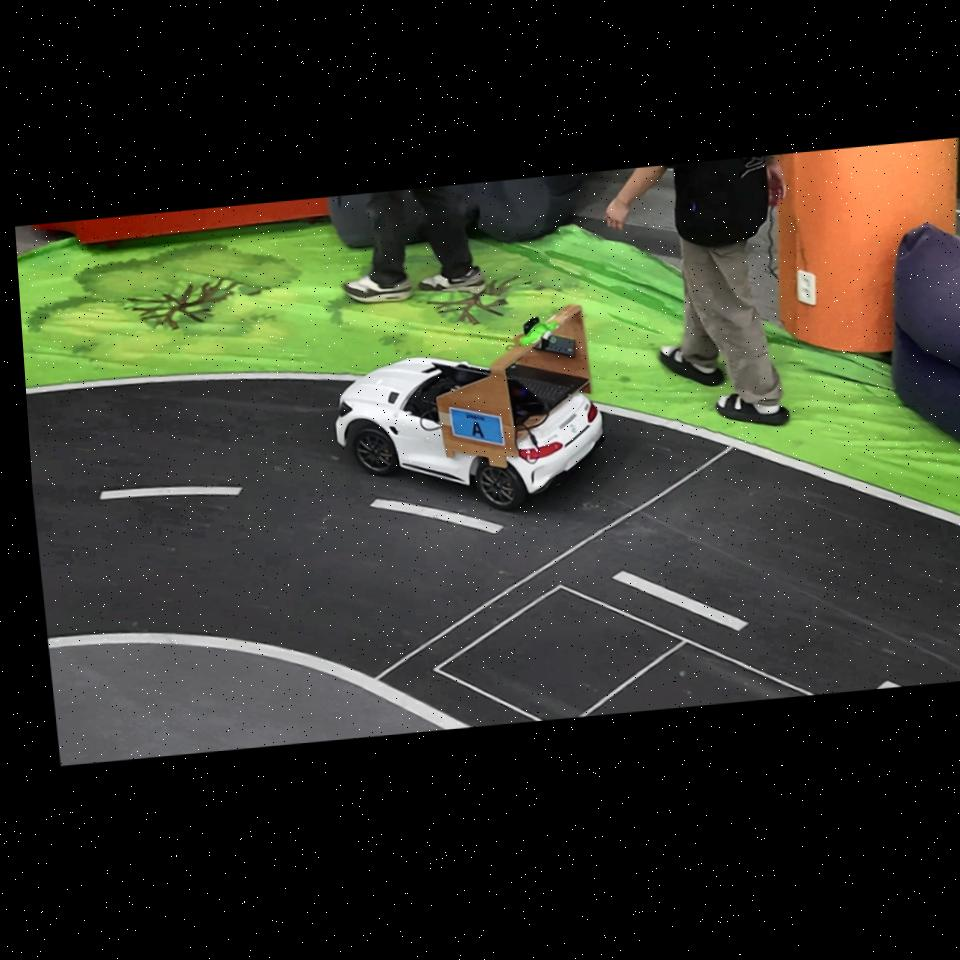broken_line: (612, 571, 749, 631), (370, 499, 505, 533), (100, 486, 243, 500), (877, 681, 901, 688)
